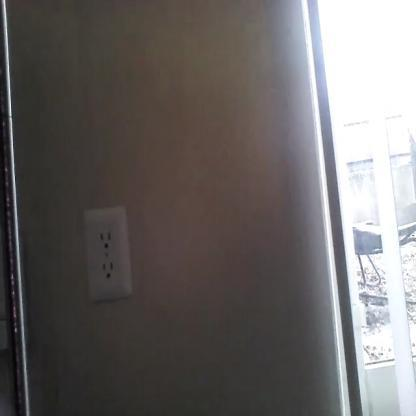OUTLET: (82, 207, 134, 302)
